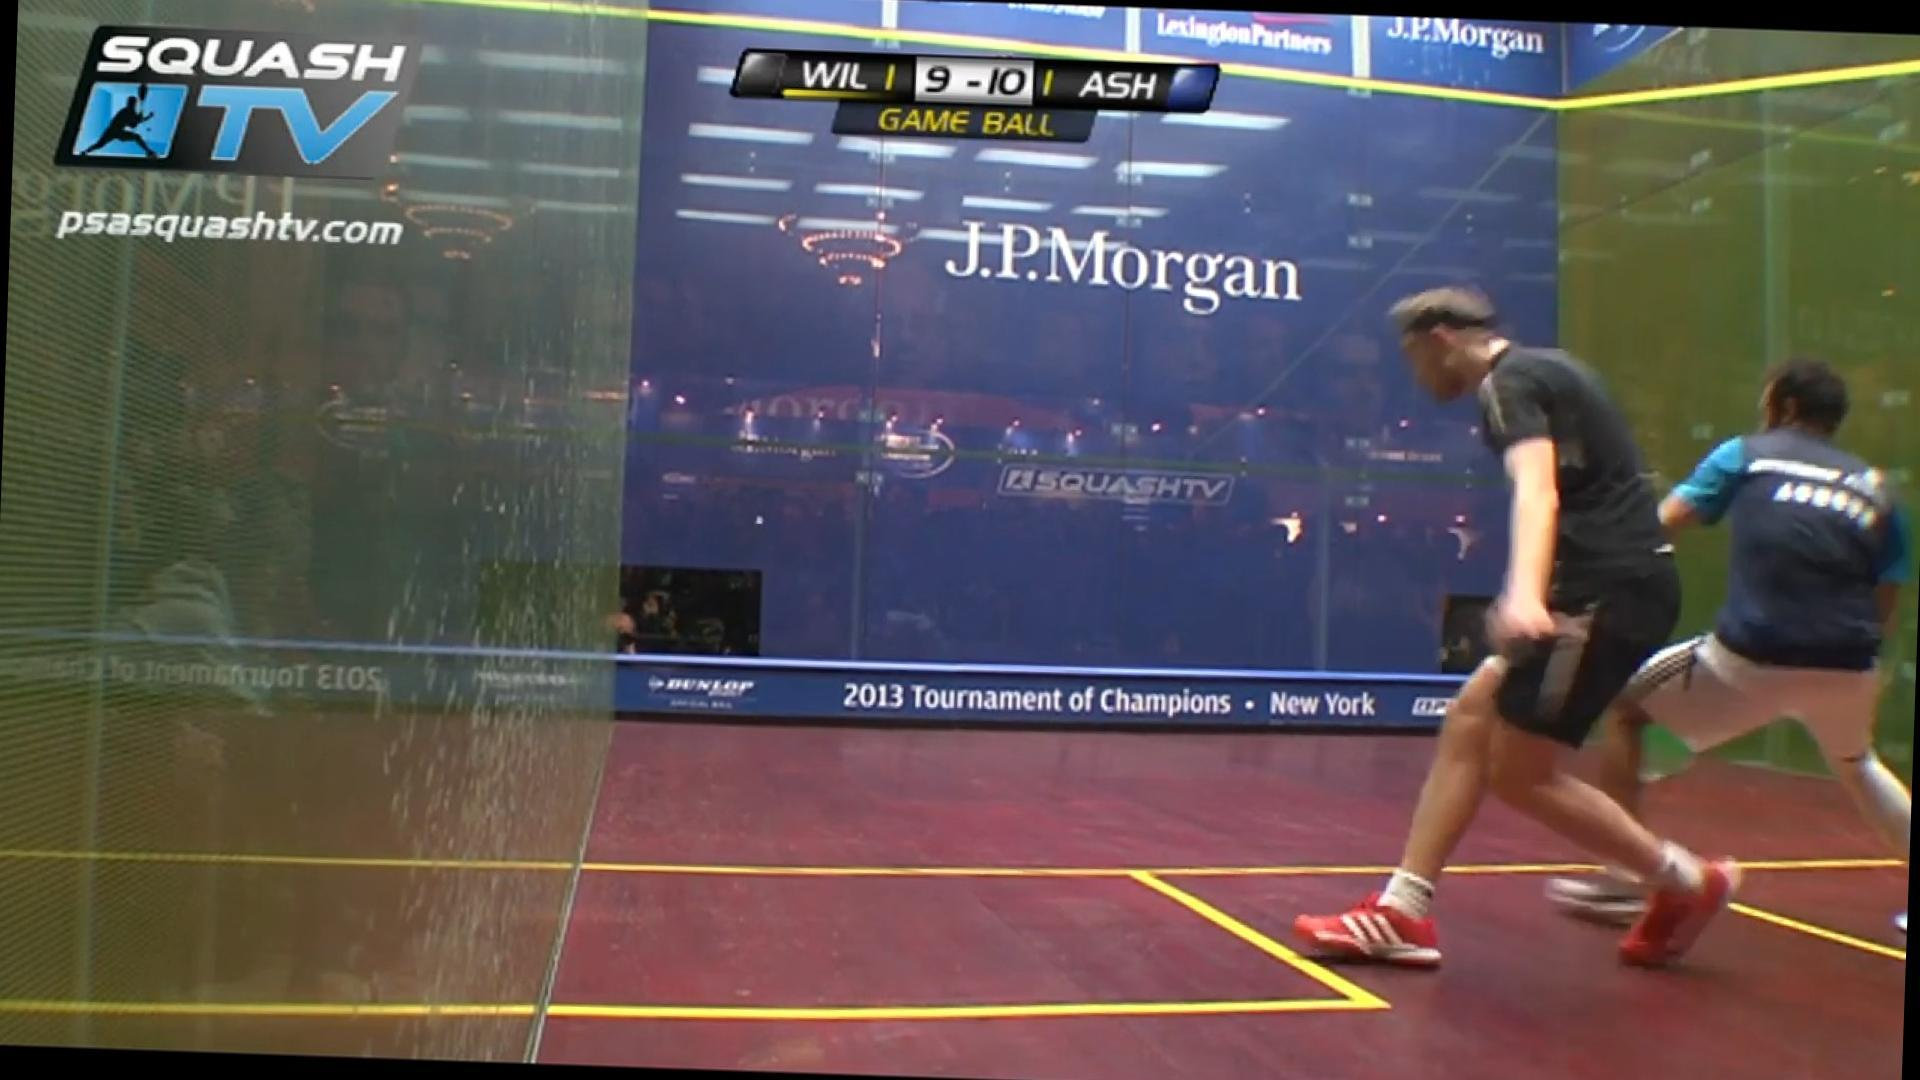Squash-Ball: (742, 512, 778, 533)
